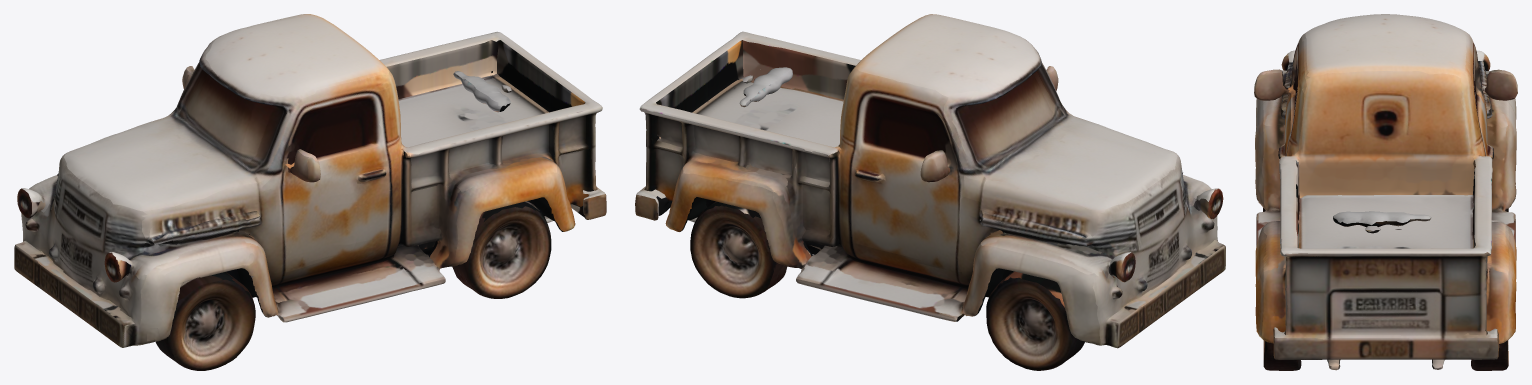
File: pickup_oxidada.glb
The picture shows the model from 3 angles, left to right: view 1: azimuth 30°, elevation 25°; view 2: azimuth 150°, elevation 25°; view 3: azimuth 270°, elevation 25°; orthographic projection.
Visible parts, largest first — view 1: tmpz6xn_f3h.ply; view 2: tmpz6xn_f3h.ply; view 3: tmpz6xn_f3h.ply.
Part boxes in pixels (x1=…): tmpz6xn_f3h.ply: x1=14, y1=14, x2=606, y2=370; tmpz6xn_f3h.ply: x1=635, y1=14, x2=1225, y2=370; tmpz6xn_f3h.ply: x1=1254, y1=14, x2=1517, y2=370.
Bounding box in the file's own units: 0.9914 × 0.4838 × 0.4619.
Materials: 1 (1 with a texture image).
